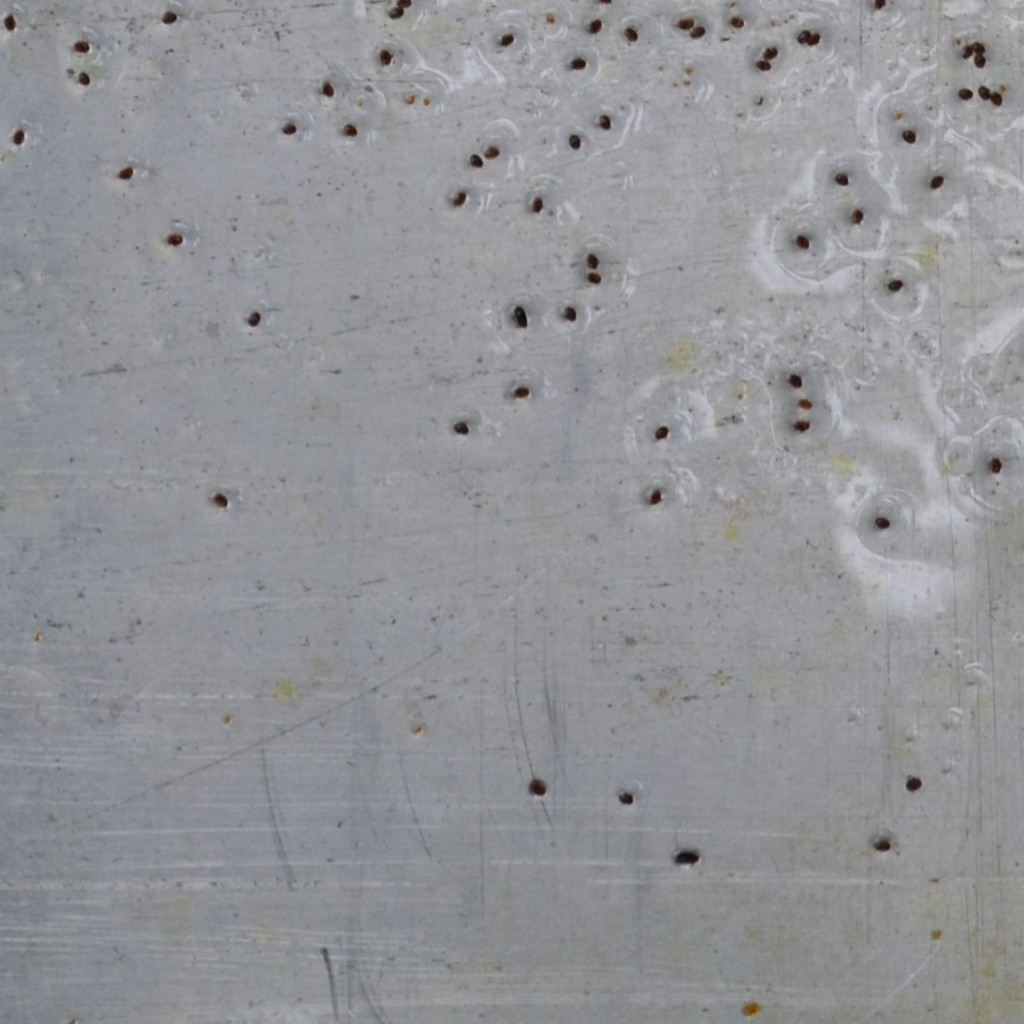varroa: (673, 844, 702, 869), (510, 302, 531, 333), (871, 835, 895, 861), (871, 509, 894, 535), (645, 484, 664, 513), (525, 777, 550, 799), (376, 44, 395, 72), (623, 23, 644, 48), (448, 187, 470, 210), (793, 232, 814, 256), (903, 771, 924, 794), (164, 229, 187, 250), (528, 190, 546, 216), (113, 163, 135, 184), (615, 788, 638, 808), (243, 307, 261, 332), (467, 147, 484, 173), (569, 56, 589, 78), (651, 421, 670, 444), (497, 28, 515, 52), (791, 419, 812, 439), (2, 11, 22, 32), (884, 277, 906, 296), (450, 418, 472, 437), (71, 36, 93, 55), (928, 172, 947, 193), (511, 383, 532, 402), (340, 119, 359, 140), (210, 490, 231, 509), (8, 126, 27, 147), (849, 205, 867, 227), (786, 368, 804, 390), (159, 8, 182, 25), (986, 456, 1004, 477), (595, 113, 613, 134), (587, 18, 604, 40), (674, 18, 697, 34), (280, 121, 303, 137), (688, 23, 707, 42), (901, 127, 918, 148), (754, 58, 775, 75), (76, 67, 93, 88), (956, 86, 974, 105), (796, 394, 814, 413), (562, 305, 579, 324), (806, 31, 823, 49), (387, 5, 406, 21), (319, 79, 335, 98), (567, 132, 582, 152), (585, 249, 598, 272), (833, 169, 850, 186), (796, 27, 812, 45), (729, 14, 745, 32), (586, 270, 604, 286), (972, 52, 987, 71), (482, 145, 501, 160), (990, 89, 1004, 109), (761, 46, 782, 59), (971, 38, 986, 55), (977, 84, 989, 103), (873, 0, 889, 14), (395, 0, 414, 8), (962, 44, 972, 59)
